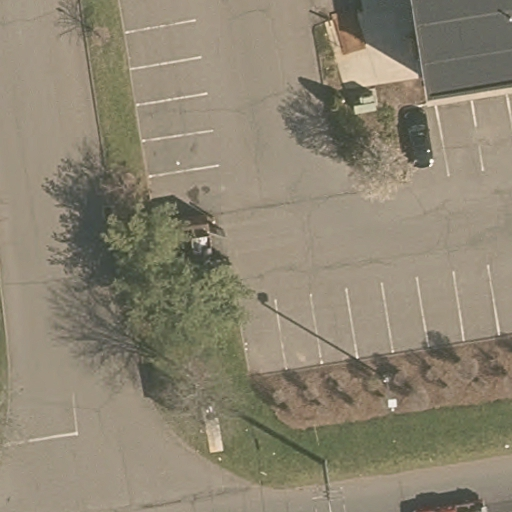DT: (302, 449, 353, 510)
